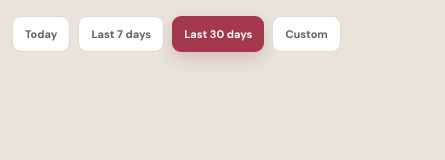
Test case: ReportPeriodSelector › applies a valid custom range
Later steps or results of the test are not shown.
Click the button "Custom": (307, 34) [272, 16, 341, 52]
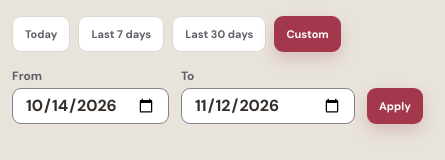
In the date field labelled "From": (90, 106) [12, 88, 169, 124], type "2026-11-01"
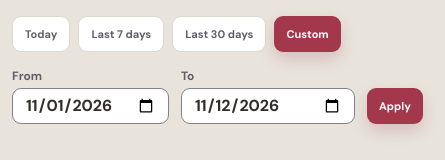
In the date field labelled "To": (268, 106) [181, 88, 355, 124], type "2026-11-10"
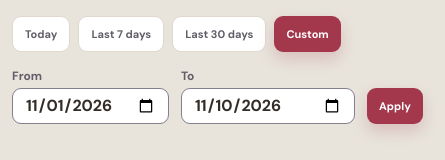
Expected: the button "Apply" is enabled, [367, 88, 423, 124]
